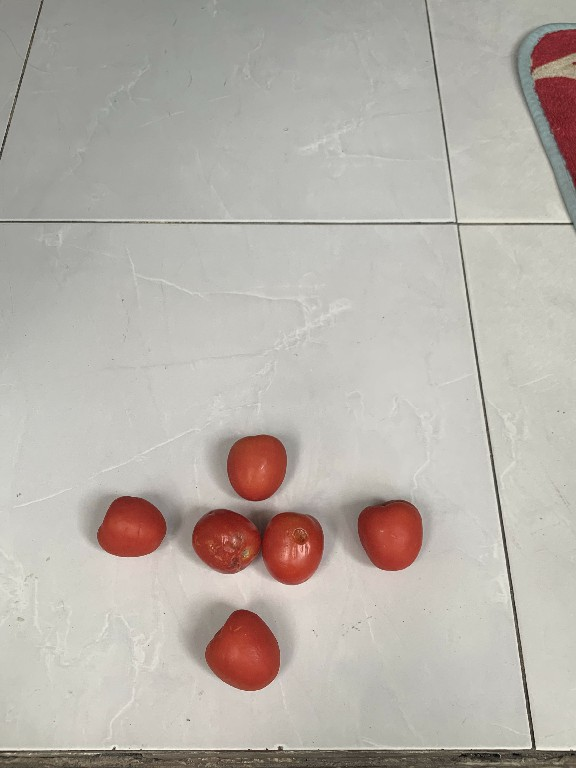NG: (189, 507, 261, 581), (264, 507, 325, 584)
OK: (346, 492, 430, 581), (202, 601, 276, 692), (220, 423, 292, 504), (97, 488, 170, 559)
